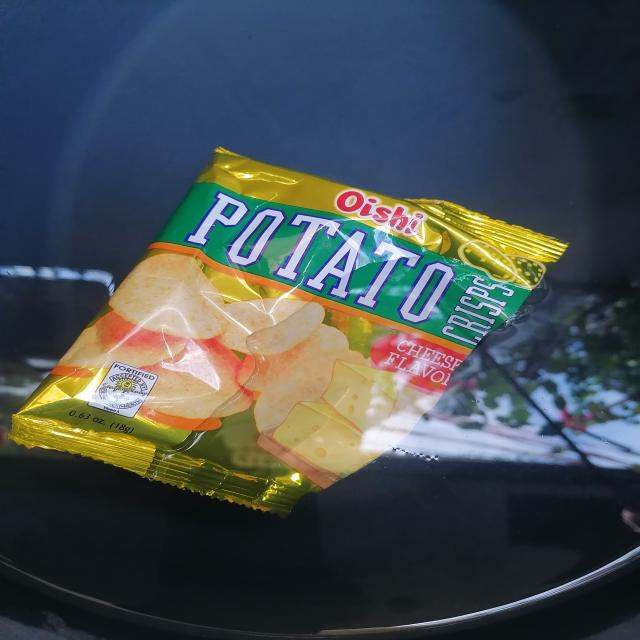Plastic Wrapper: (9, 147, 567, 517)
